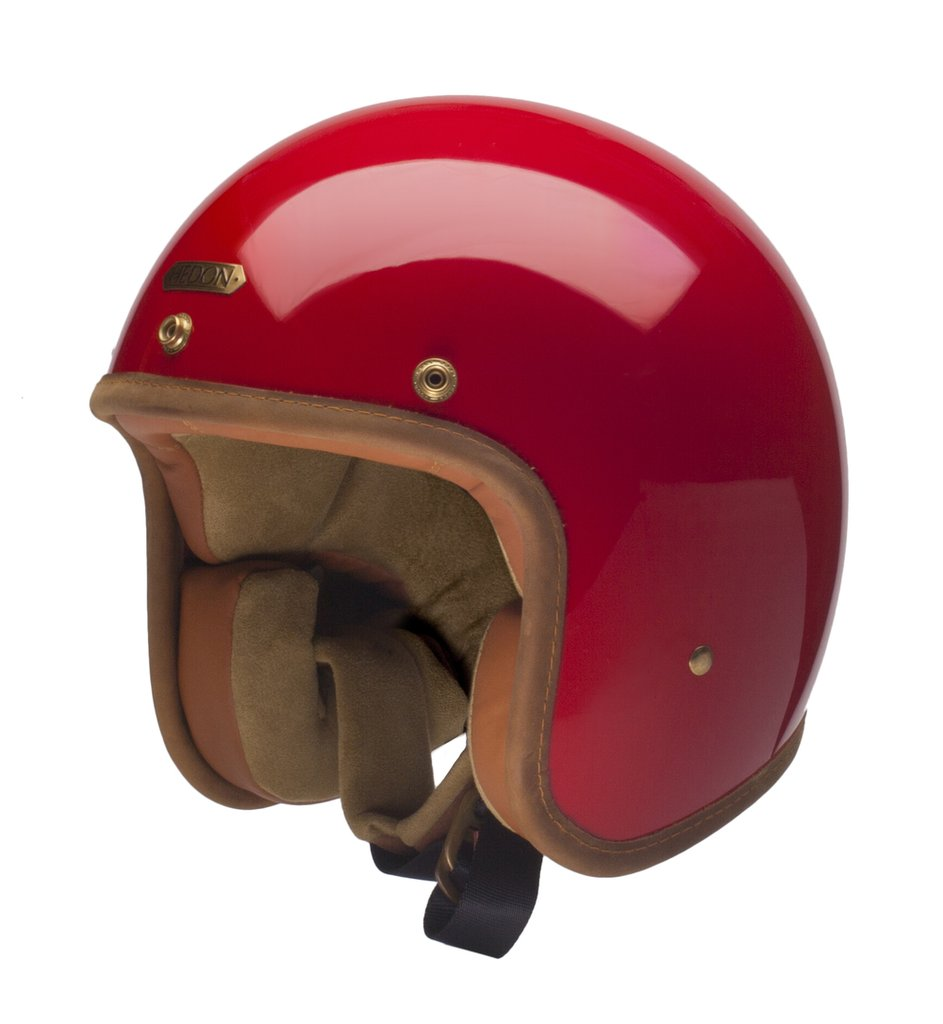with_helmet: (82, 71, 854, 887)
